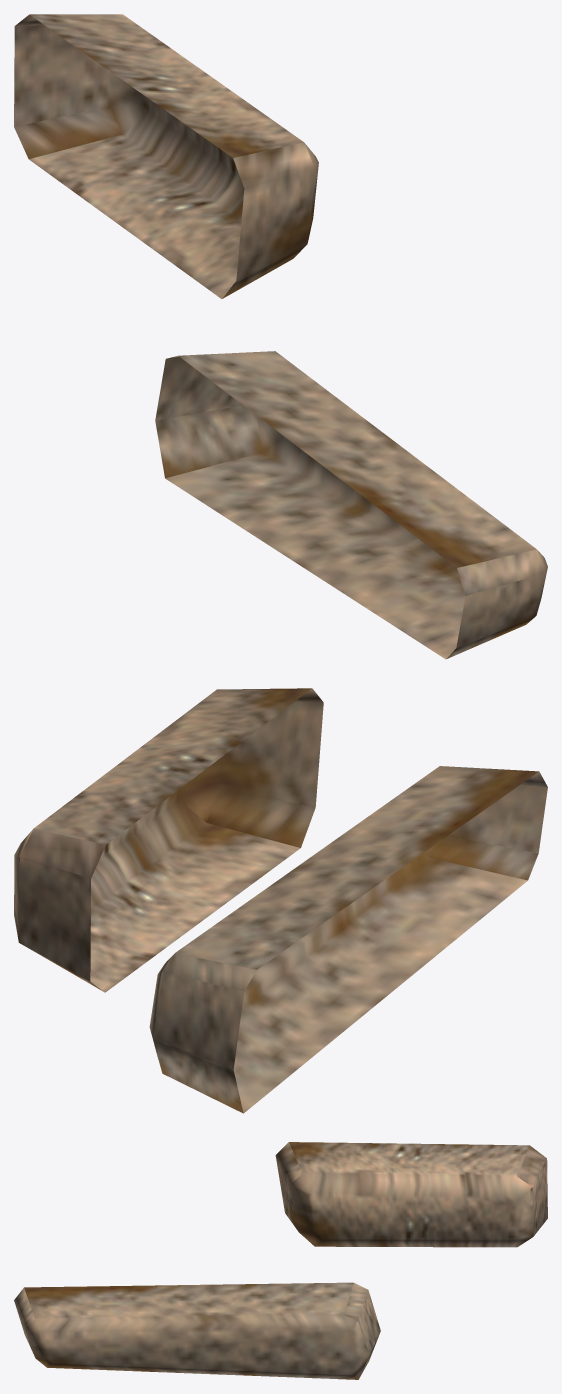
The model's file is lower_city_wall_climb_04.fbx.
3 renders of one model, top to bottom at view 1: azimuth 30°, elevation 25°; view 2: azimuth 150°, elevation 25°; view 3: azimuth 270°, elevation 25°, orthographic. The views are drawn at different scales.
Visible parts, largest first — view 1: lower_city_wall_climb_04; view 2: lower_city_wall_climb_04; view 3: lower_city_wall_climb_04.
Boxes of the visible parts, x1=… form: lower_city_wall_climb_04: x1=14, y1=14, x2=547, y2=659; lower_city_wall_climb_04: x1=14, y1=688, x2=547, y2=1113; lower_city_wall_climb_04: x1=14, y1=1142, x2=547, y2=1379.
Bounding box in the file's own units: 0.1207 × 0.4189 × 0.9264.
